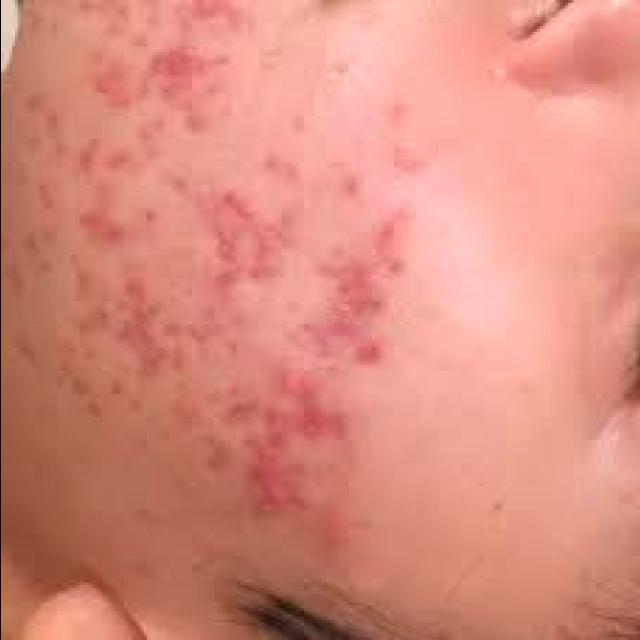Acne: (318, 256, 388, 336), (111, 300, 170, 384), (249, 460, 313, 520), (145, 46, 209, 82), (297, 406, 352, 446), (74, 207, 130, 246), (247, 226, 281, 286), (278, 368, 326, 402), (263, 406, 297, 450), (220, 184, 261, 220), (352, 338, 391, 371)
